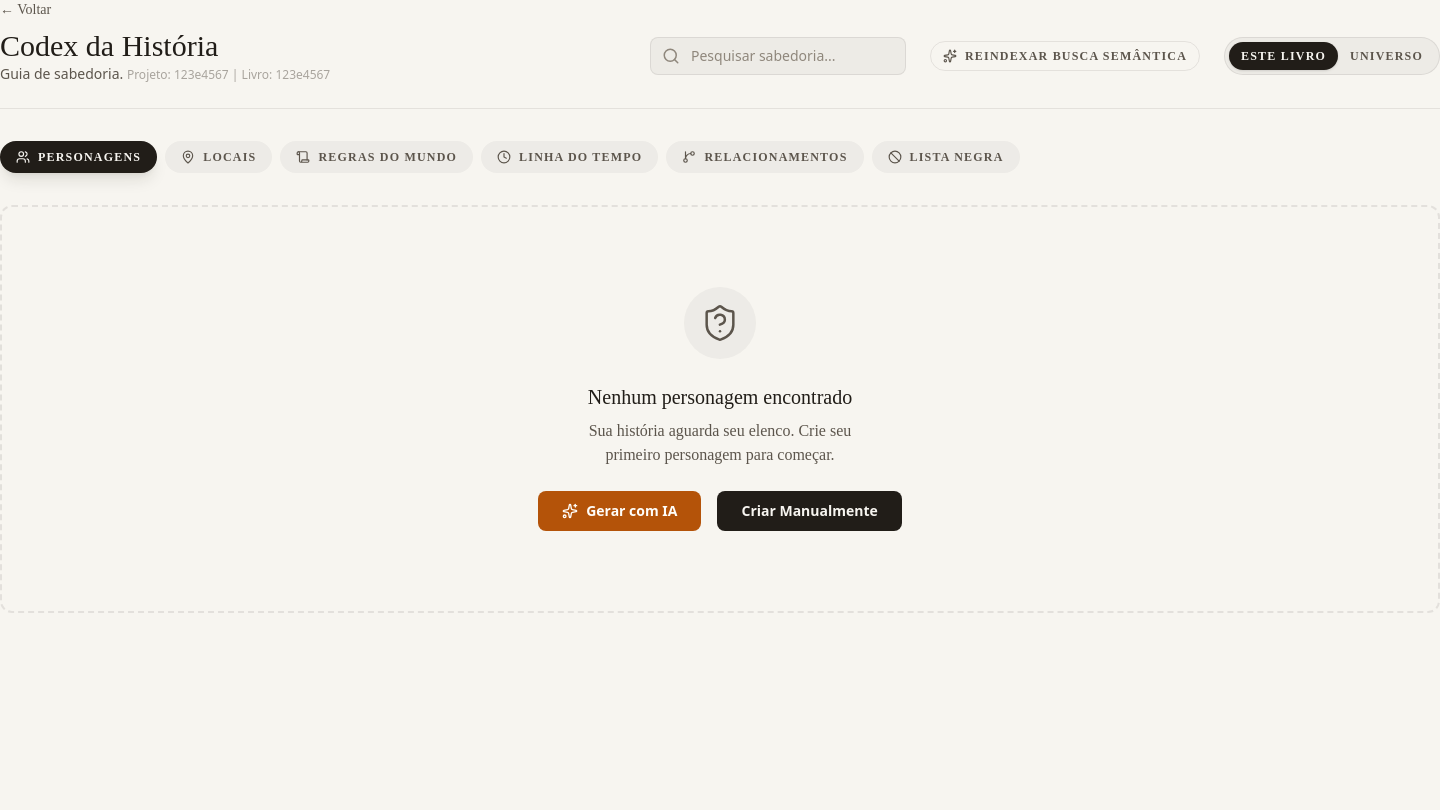
Test case: CodexDashboard Modal Integration › should reset form state when modal is closed and reopened
# Open Location modal
Click the button "Locais" at (219,157), box [165,141,272,173]
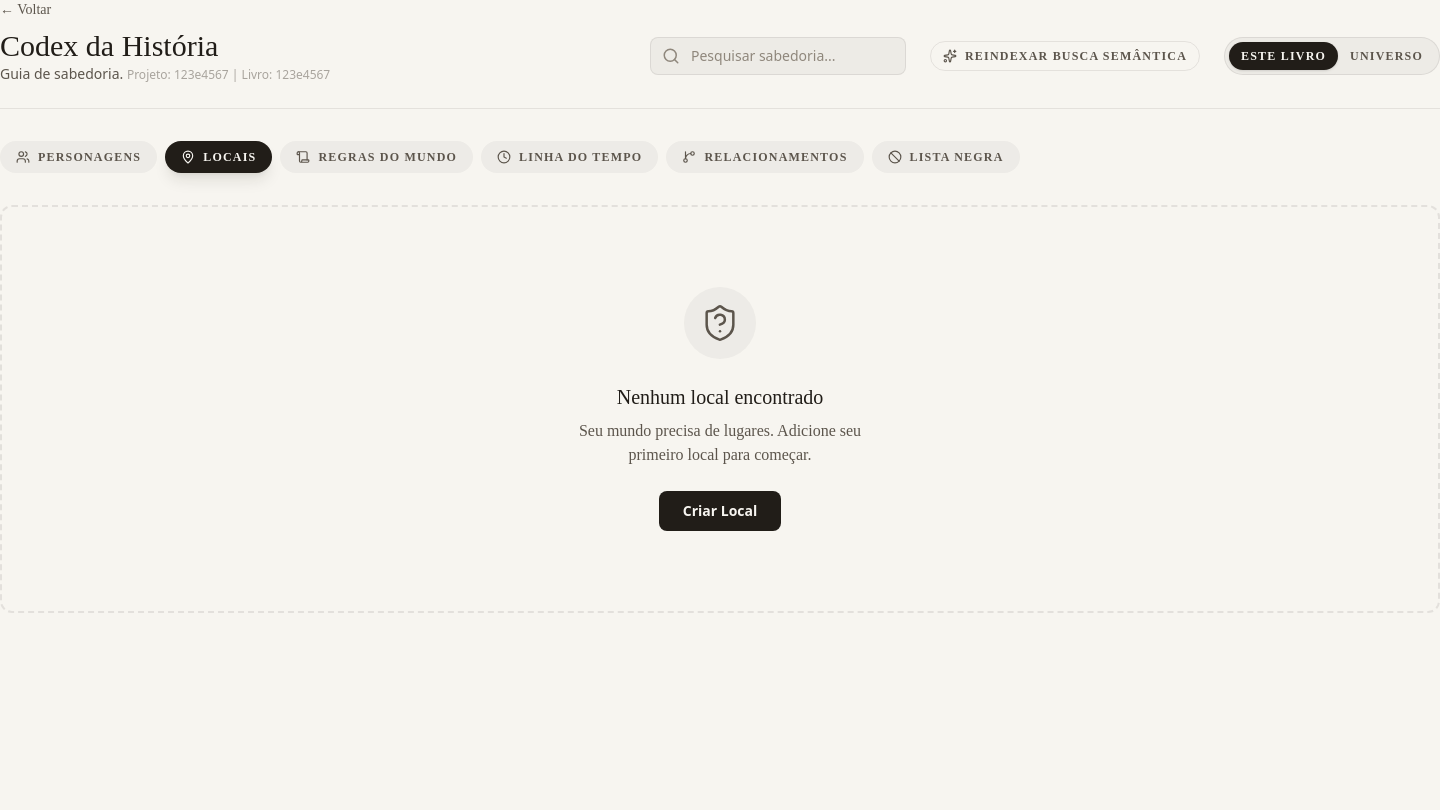
Click the button "Criar Local" at (720,511), box [659,491,781,531]
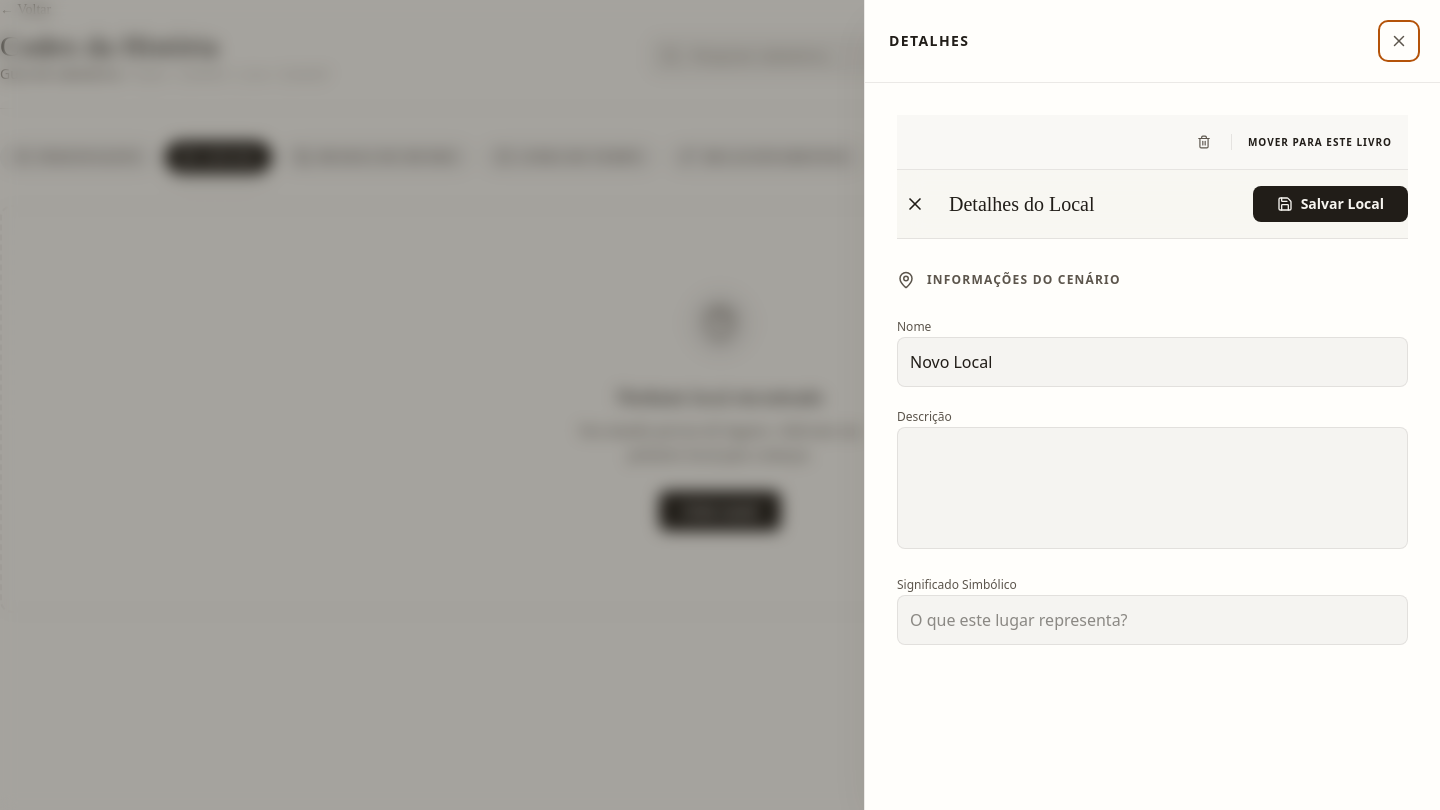
# Type something
Replace the text in the field labelled "Nome" with "Lugar Temporário" at (1152,362), box [897,337,1408,387]
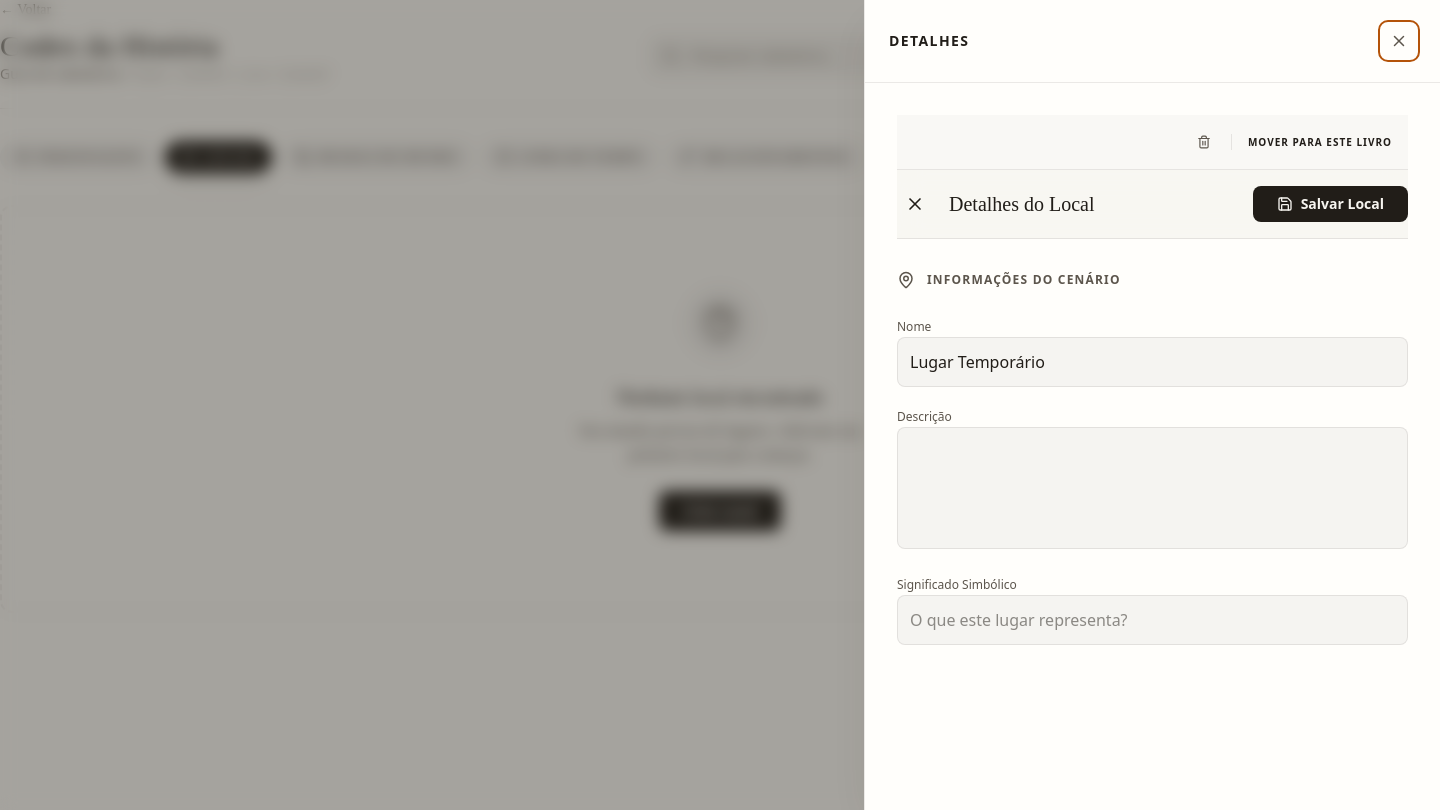
# Close modal via backdrop
Click the element with test id "slideover-backdrop" at (720,405), box [0,0,1439,809]
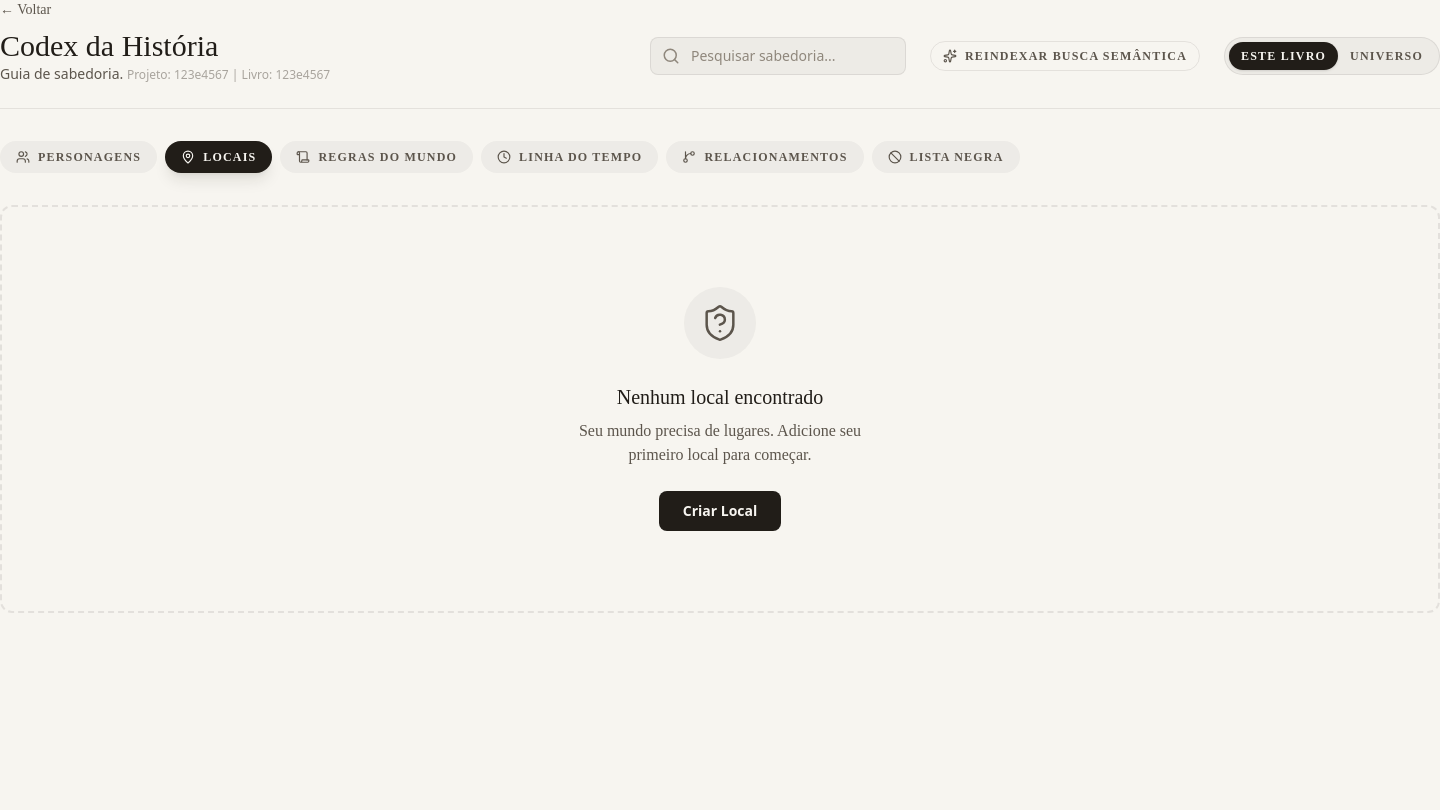
expect the heading "Detalhes do Local" is gone: met
Click the button "Criar Local" at (720,511), box [659,491,781,531]
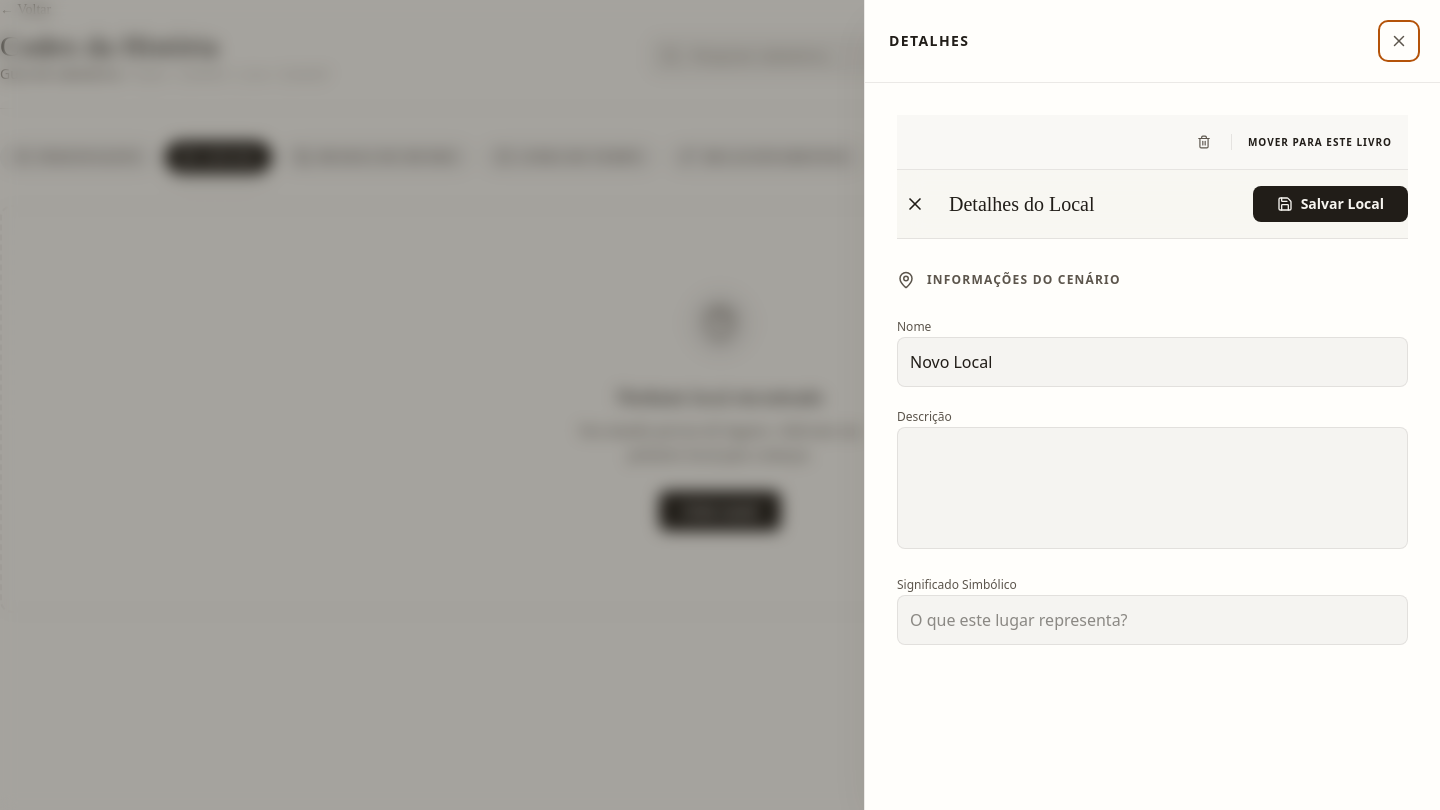
expect the field labelled "Nome" holds "Novo Local": met, box [897,337,1408,387]
